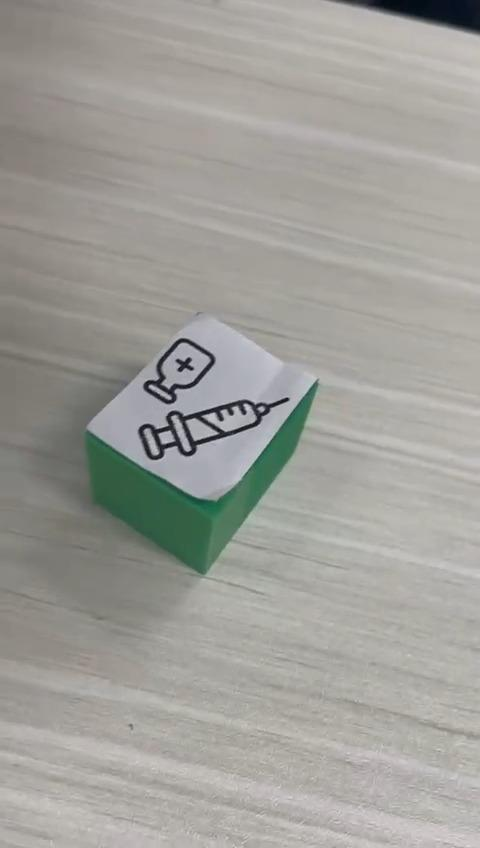antiseptic cream: (83, 309, 320, 575)
